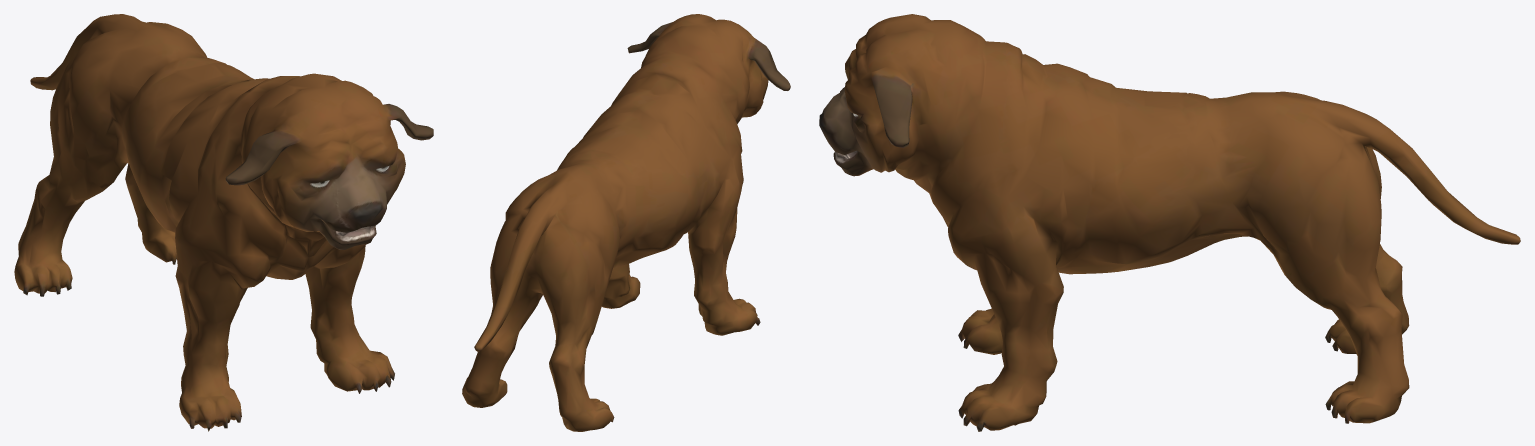
The model's file is tobei.glb.
3 views of the same model, side by side, from view 1: azimuth 30°, elevation 25°; view 2: azimuth 150°, elevation 25°; view 3: azimuth 270°, elevation 25° (orthographic). The views are drawn at different scales.
Parts seen in each view (by area): view 1: tripo_node_6673a28f-22bc-40e7-a0ae-43b83754eb7c; view 2: tripo_node_6673a28f-22bc-40e7-a0ae-43b83754eb7c; view 3: tripo_node_6673a28f-22bc-40e7-a0ae-43b83754eb7c.
Boxes of the visible parts, bbox=[...] form: tripo_node_6673a28f-22bc-40e7-a0ae-43b83754eb7c: bbox=[14, 14, 433, 431]; tripo_node_6673a28f-22bc-40e7-a0ae-43b83754eb7c: bbox=[462, 14, 790, 431]; tripo_node_6673a28f-22bc-40e7-a0ae-43b83754eb7c: bbox=[819, 14, 1520, 431].
Size of the model in its own units: 0.3558 by 0.5621 by 1.
Materials: 1 (1 with a texture image).
